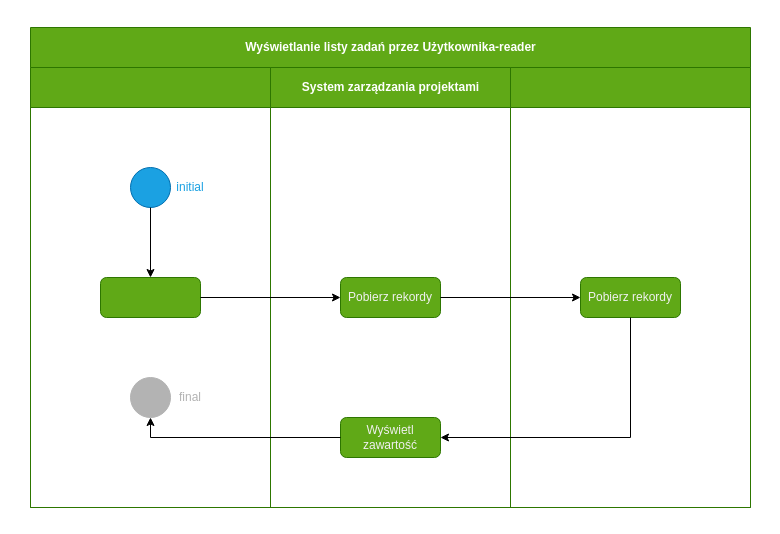
This 780x534 diagram has some shape labels left out. Here are the shapes that lost their labels. From the top down, the box of each, then its label:
(30, 66, 270, 508): Użytkownik-reader
(100, 276, 200, 318): Wejście na listę zadań
(510, 66, 750, 508): Baza danych
